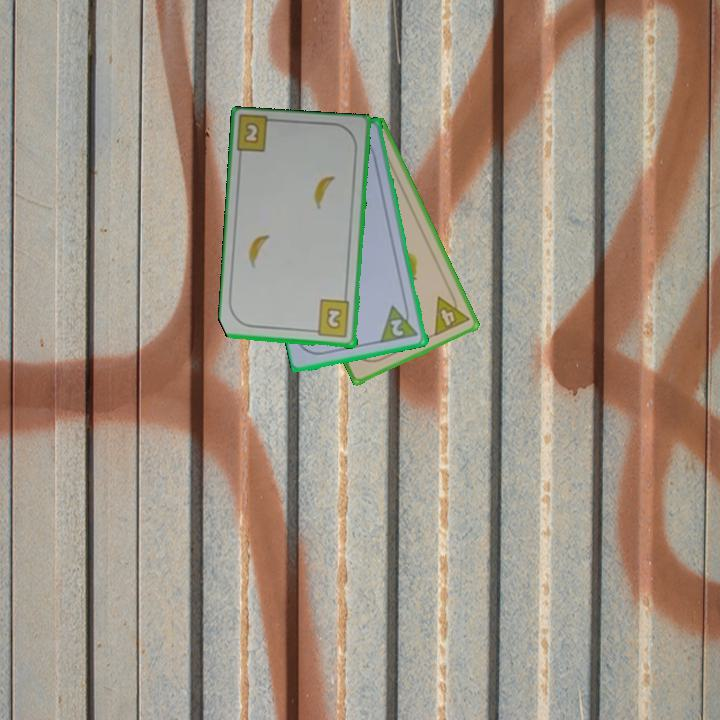2b: (308, 297, 353, 340), (240, 119, 262, 146)
2p: (377, 300, 422, 346)
4p: (430, 288, 472, 339)
